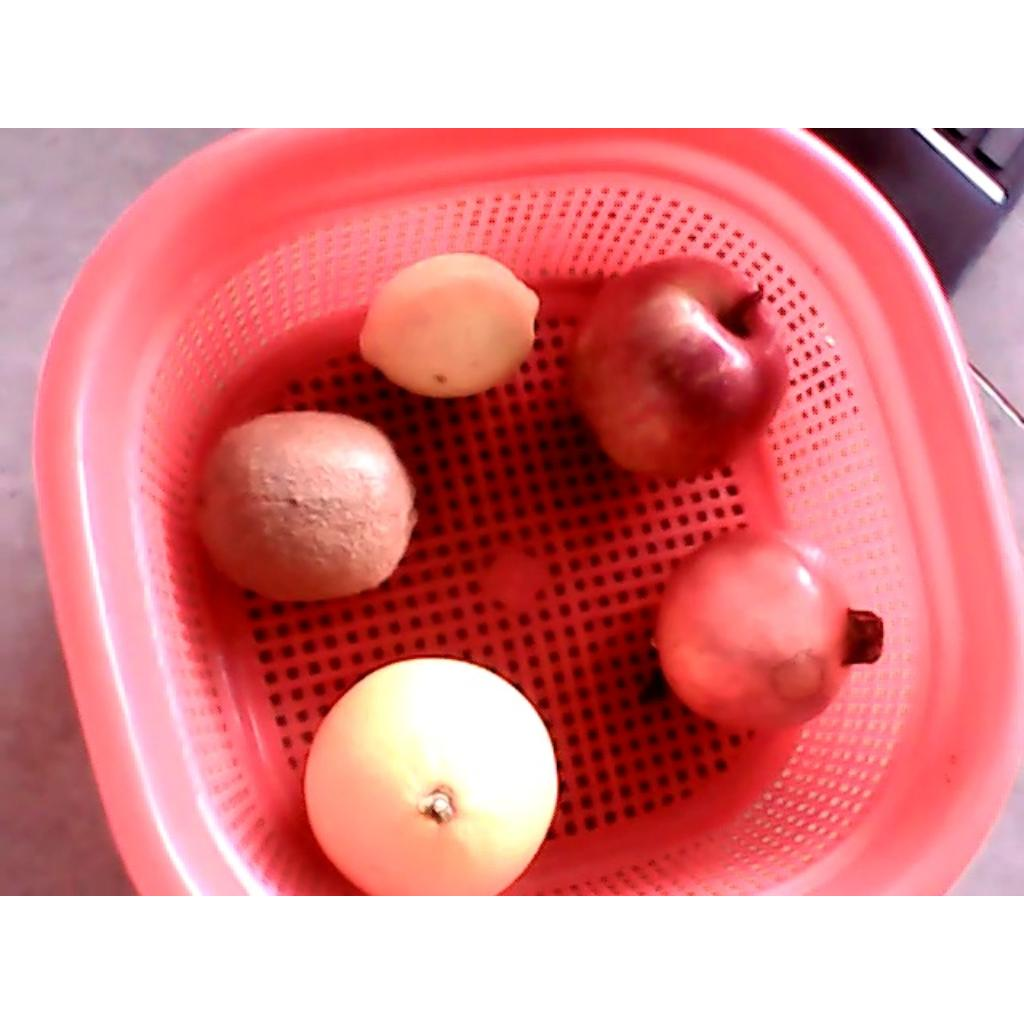apple: (568, 256, 792, 485)
kiwi: (192, 411, 420, 602)
lemon: (359, 252, 540, 399)
orange: (303, 657, 559, 894)
pomegranate: (657, 525, 885, 738)
